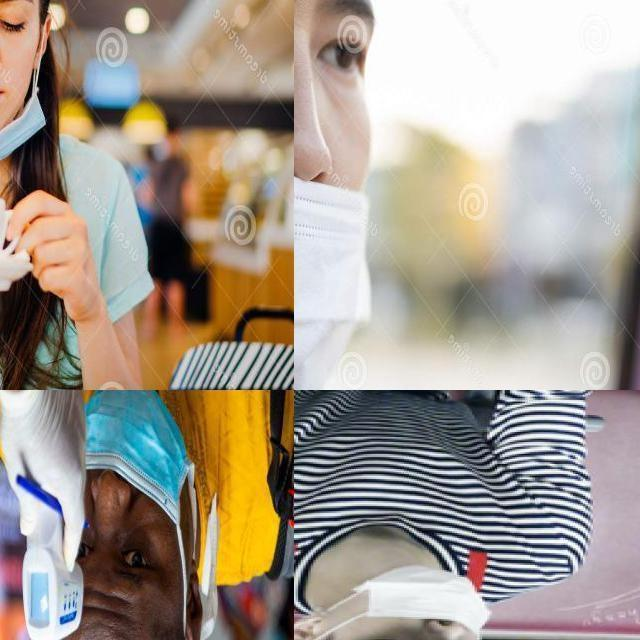hairnet: (294, 104, 380, 389), (59, 390, 193, 545), (301, 563, 495, 639), (0, 57, 53, 159)
